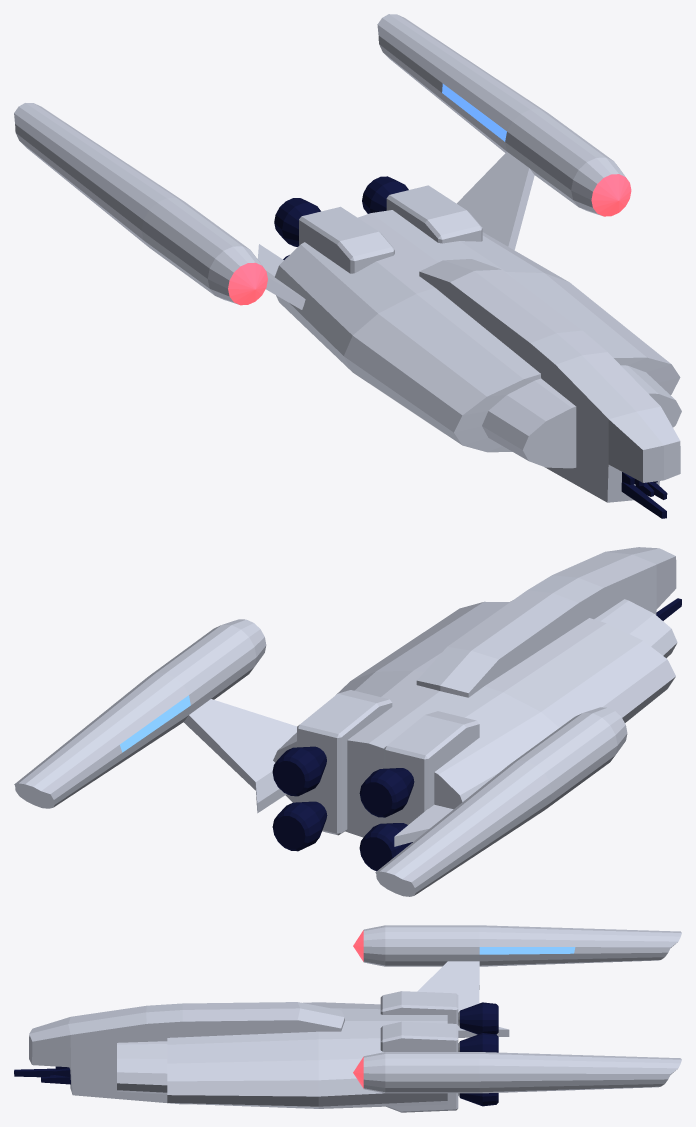
File: Fed_Colony_i.fbx
The picture shows the model from 3 angles, top to bottom: view 1: azimuth 30°, elevation 25°; view 2: azimuth 150°, elevation 25°; view 3: azimuth 270°, elevation 25°; orthographic projection. The views are drawn at different scales.
Visible parts, largest first — view 1: CONESTOGA; view 2: CONESTOGA; view 3: CONESTOGA.
Boxes of the visible parts, x1,y1,x2,y2 form: CONESTOGA: (14, 14, 681, 518); CONESTOGA: (14, 547, 681, 896); CONESTOGA: (14, 925, 681, 1112).
Size of the model in its own units: 13.07 by 4.53 by 25.58.
